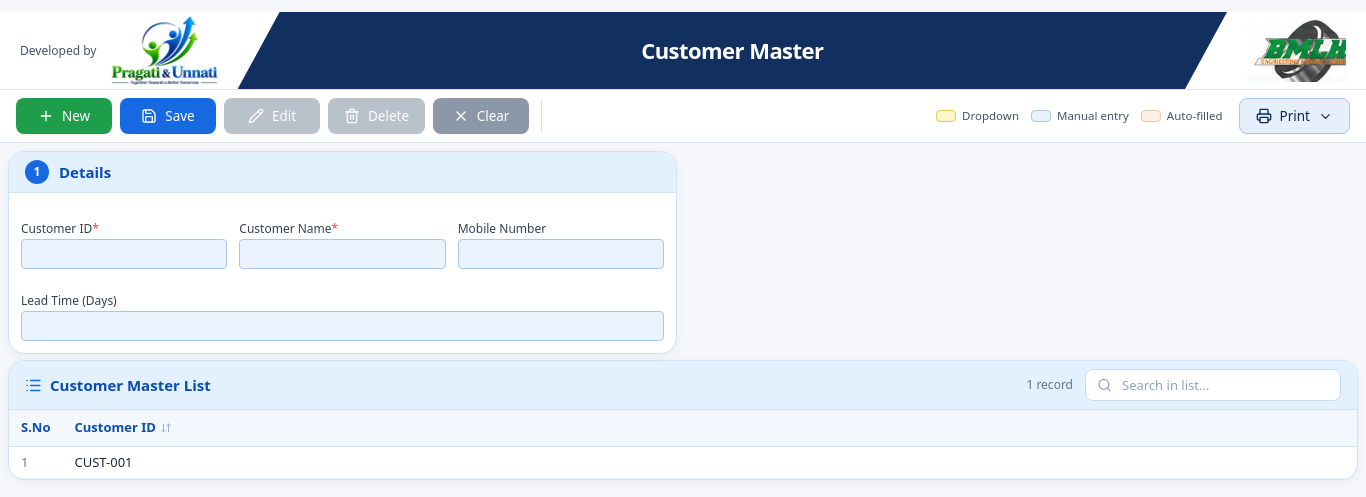
Test: MasterFormScreen validation › refuses a bad mobile and a bad number
The width and height of the screenshot is (1366, 497).
Type "CUST-009" into the field labelled "Customer ID *" at (124, 254), box [21, 239, 227, 269]
Type "New" into the field labelled "Customer Name *" at (342, 254), box [239, 239, 446, 269]
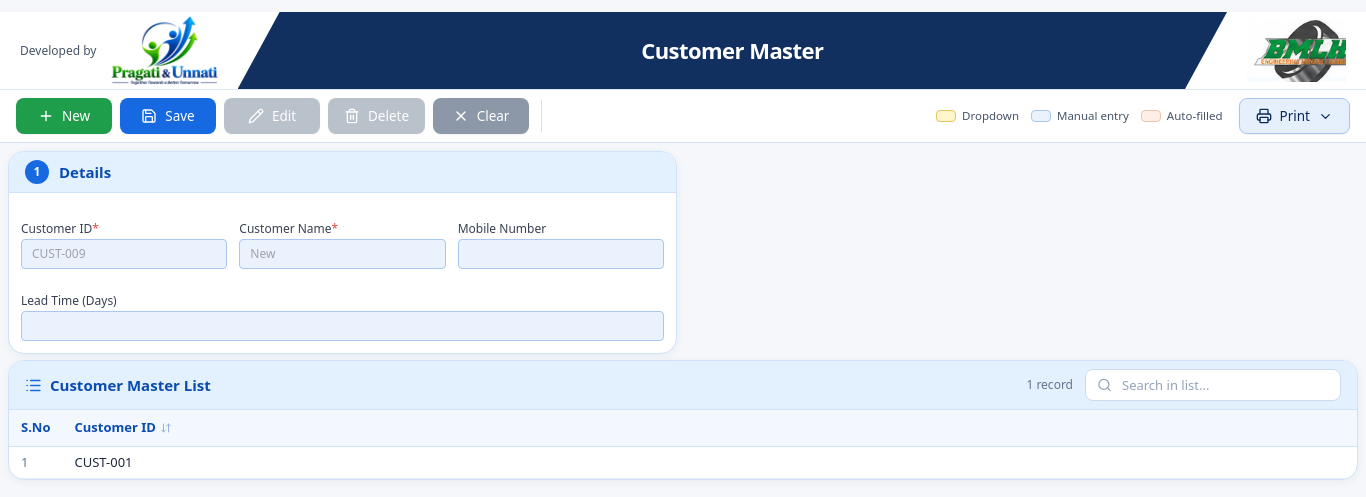
Type "abc" into the field labelled "Mobile Number" at (561, 254), box [458, 239, 664, 269]
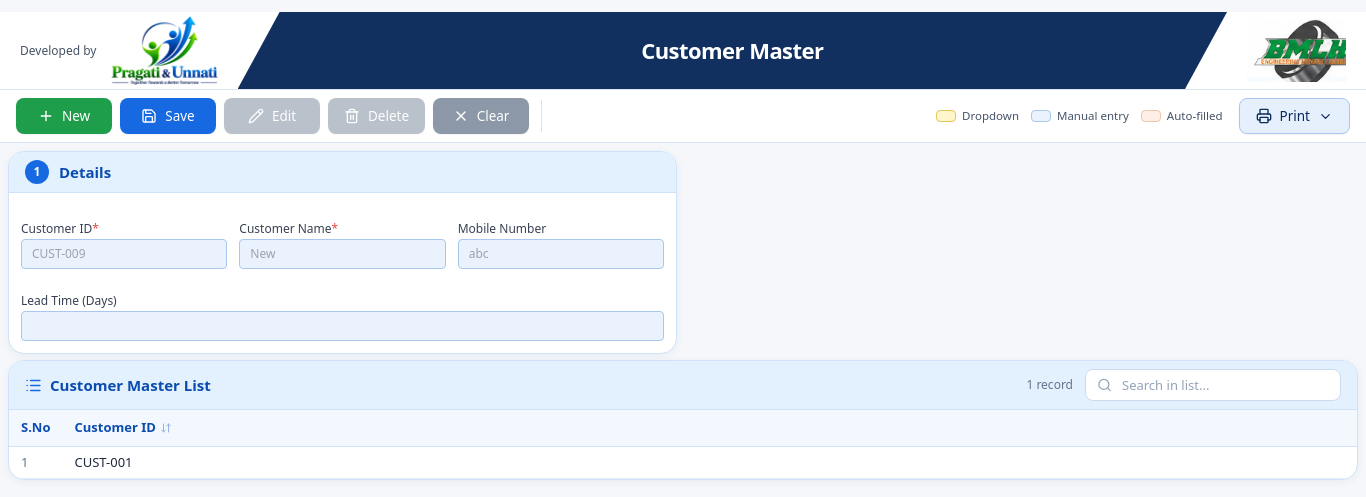
Click the button "Save" at (168, 116), box [120, 98, 216, 134]
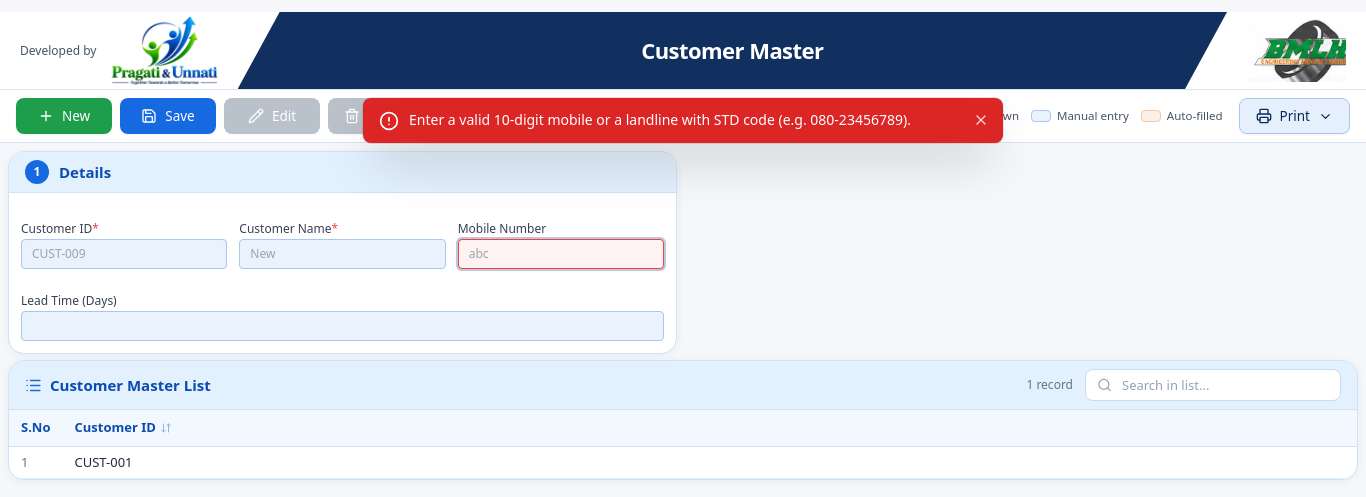
Check: the text "10-digit mobile or a landline with STD code" is shown, box [409, 110, 911, 129]
Replace the text in the field labelled "Mobile Number" with "9876543210" at (561, 254), box [458, 239, 664, 269]
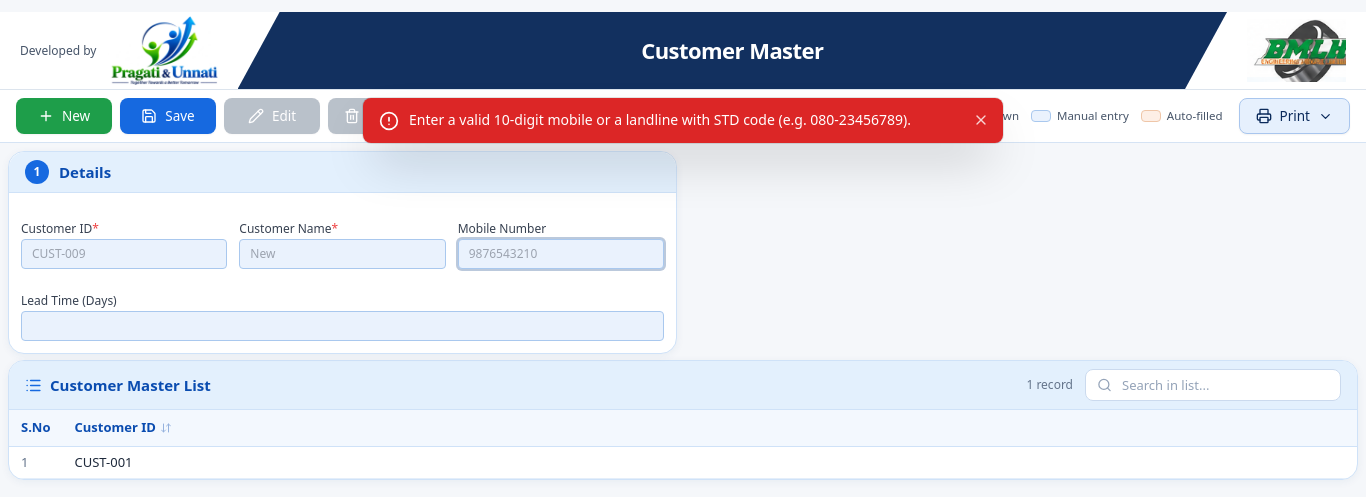
Type "0" into the number field labelled "Lead Time (Days)" at (342, 326), box [21, 311, 664, 341]
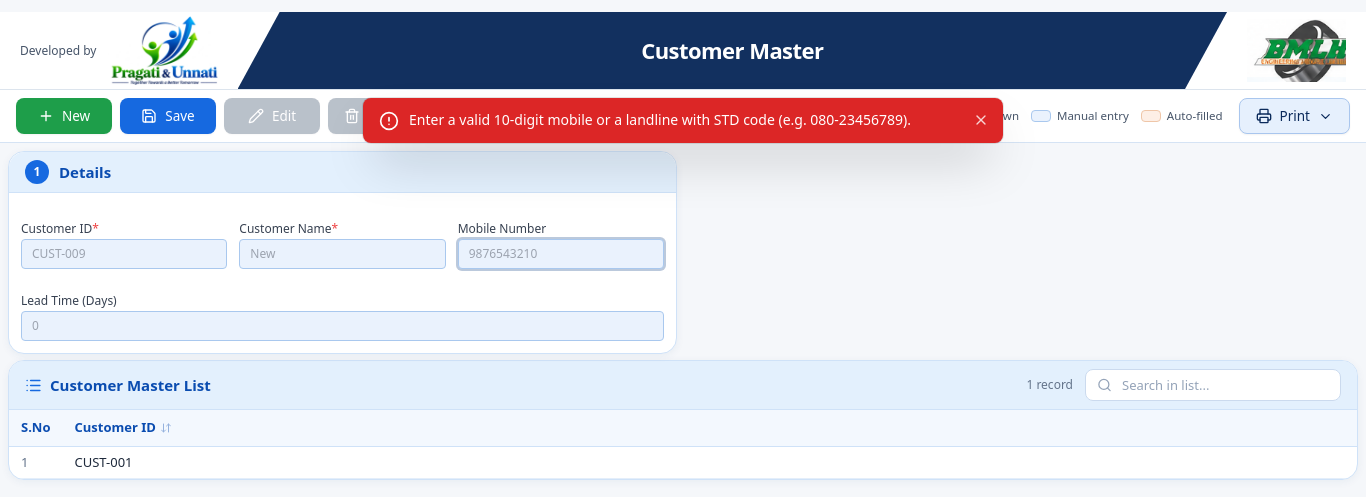
Click the button "Save" at (168, 116), box [120, 98, 216, 134]
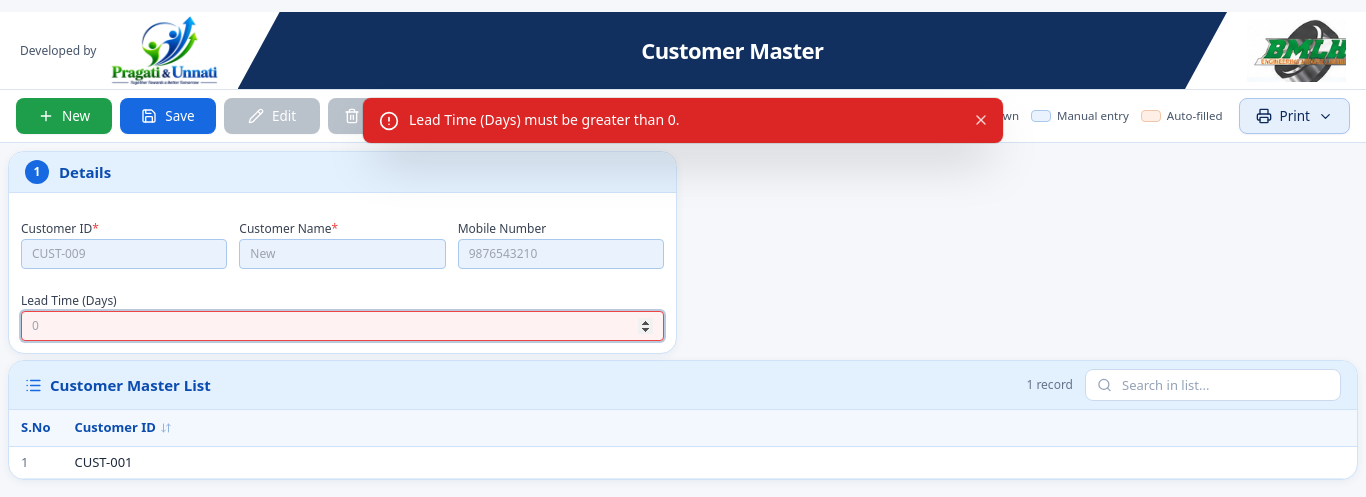
Check: the text "Lead Time (Days) must be greater than 0." is shown, box [409, 110, 680, 129]
